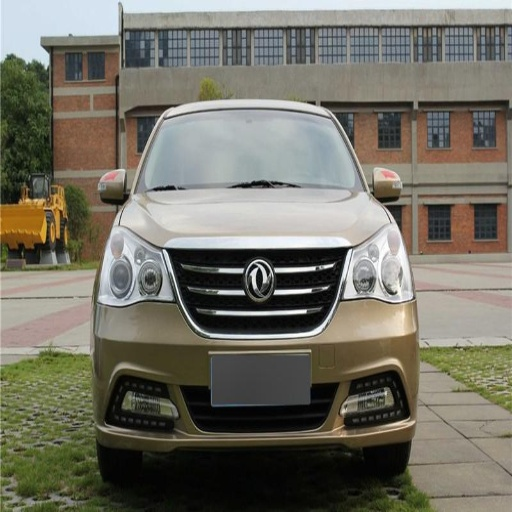front_bumper: (93, 238, 416, 447)
front_right_light: (103, 227, 169, 304)
hood: (122, 191, 388, 246)
